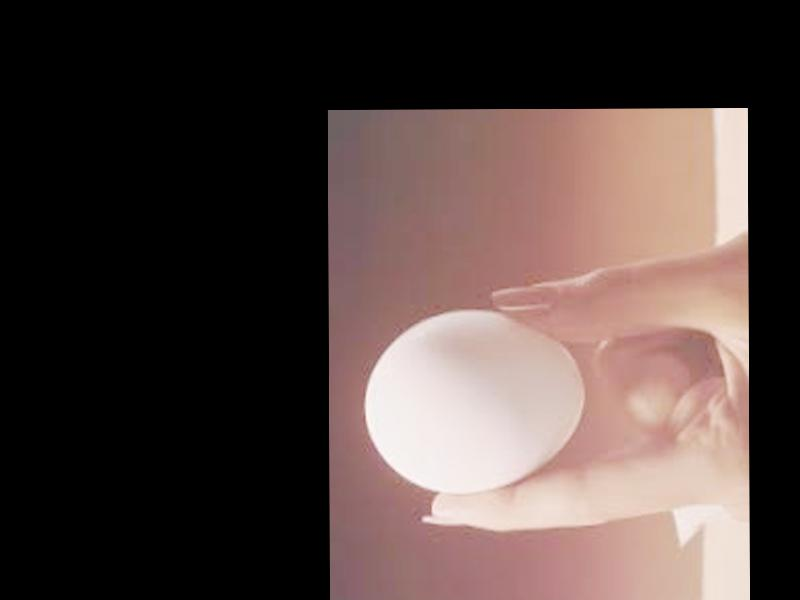Eggs: (363, 308, 585, 496)
